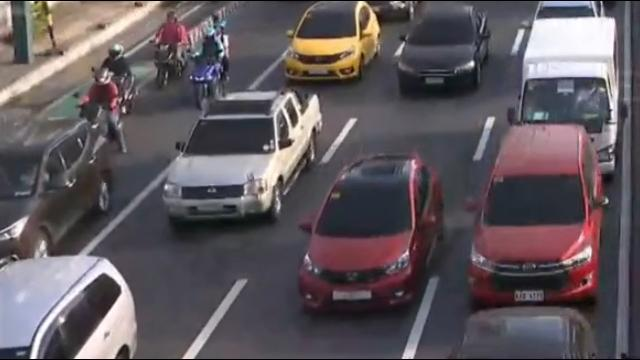car: (463, 123, 611, 308), (296, 152, 443, 318), (0, 113, 109, 268), (0, 259, 139, 360), (393, 0, 492, 98), (284, 0, 382, 87), (527, 0, 608, 26)
motorcycle: (187, 14, 231, 110), (81, 67, 124, 157), (148, 8, 191, 91), (99, 44, 137, 120)
pickup-truck: (161, 89, 323, 228)
truck: (510, 20, 618, 173)
